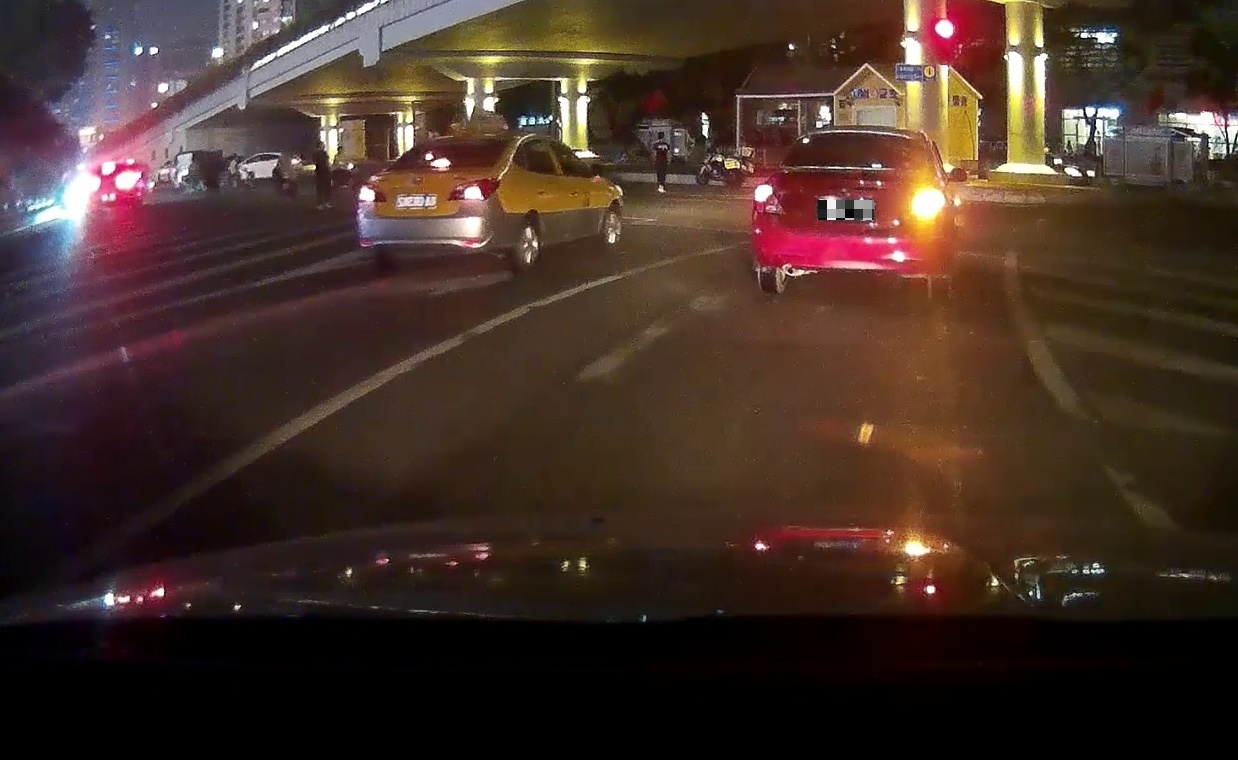L_light: (753, 184, 785, 215), (358, 185, 385, 203)
R_light: (448, 177, 500, 200), (908, 187, 943, 221)
T_light: (429, 160, 452, 167), (844, 133, 870, 139)
night-brake: (357, 133, 513, 271)
night-right: (751, 126, 951, 301)
plate_1: (818, 200, 874, 220)
